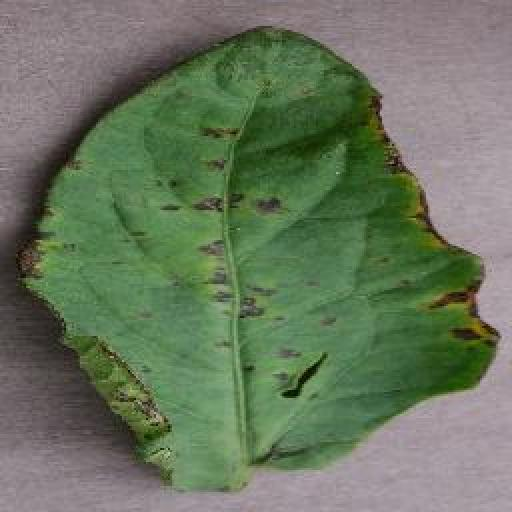Bacterial Spot: (23, 19, 504, 489)
